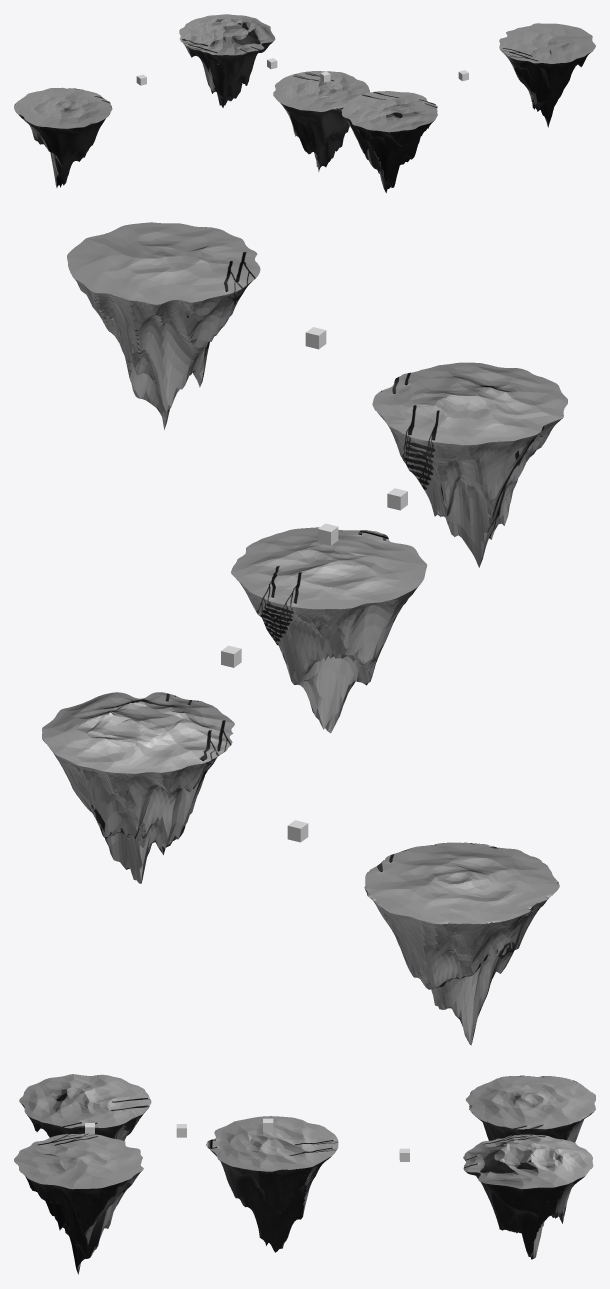
File: AAAAA.glb
3 renders of one model, top to bottom at view 1: azimuth 30°, elevation 25°; view 2: azimuth 150°, elevation 25°; view 3: azimuth 270°, elevation 25°, orthographic. The views are drawn at different scales.
Parts seen in each view (by area): view 1: Landscape.004, Landscape.005, Landscape.002, Landscape.003, Landscape.001; view 2: Landscape.003, Landscape.005, Landscape.004, Landscape.002, Landscape.001; view 3: Landscape.003, Landscape.005, Landscape.001, Landscape.002, Landscape.004.
Part boxes in pixels (<box>): Landscape.004: <box>341,91,437,192</box>; Landscape.005: <box>499,23,595,127</box>; Landscape.002: <box>14,87,112,187</box>; Landscape.003: <box>273,71,369,172</box>; Landscape.001: <box>179,14,275,107</box>; Landscape.003: <box>231,527,427,733</box>; Landscape.005: <box>67,222,260,429</box>; Landscape.004: <box>372,362,567,567</box>; Landscape.002: <box>364,842,559,1045</box>; Landscape.001: <box>42,692,234,883</box>; Landscape.003: <box>206,1116,338,1252</box>; Landscape.005: <box>14,1133,143,1274</box>; Landscape.001: <box>463,1134,593,1259</box>; Landscape.002: <box>465,1075,595,1142</box>; Landscape.004: <box>19,1074,151,1140</box>.
Bounding box in the file's own units: 122 × 56.06 × 114.
Materials: 6 (5 with a texture image).
